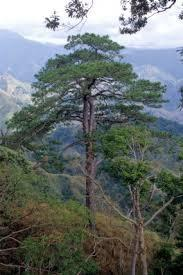tree: (3, 31, 167, 234)
